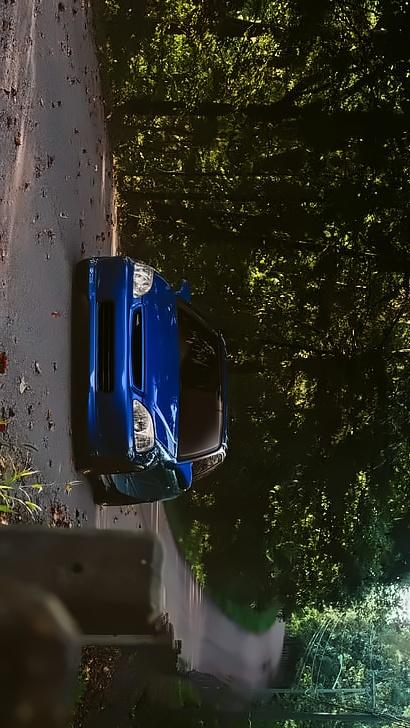Car hood: (139, 265, 182, 463)
Front bumper: (81, 251, 107, 459)
Headlight - -L-: (130, 398, 156, 456)
Headlight - -R-: (129, 257, 155, 306)
Side bumper - -L-: (105, 468, 126, 510)
Side mirror - -L-: (172, 460, 194, 494)
Side mirror - -R-: (173, 277, 193, 307)
